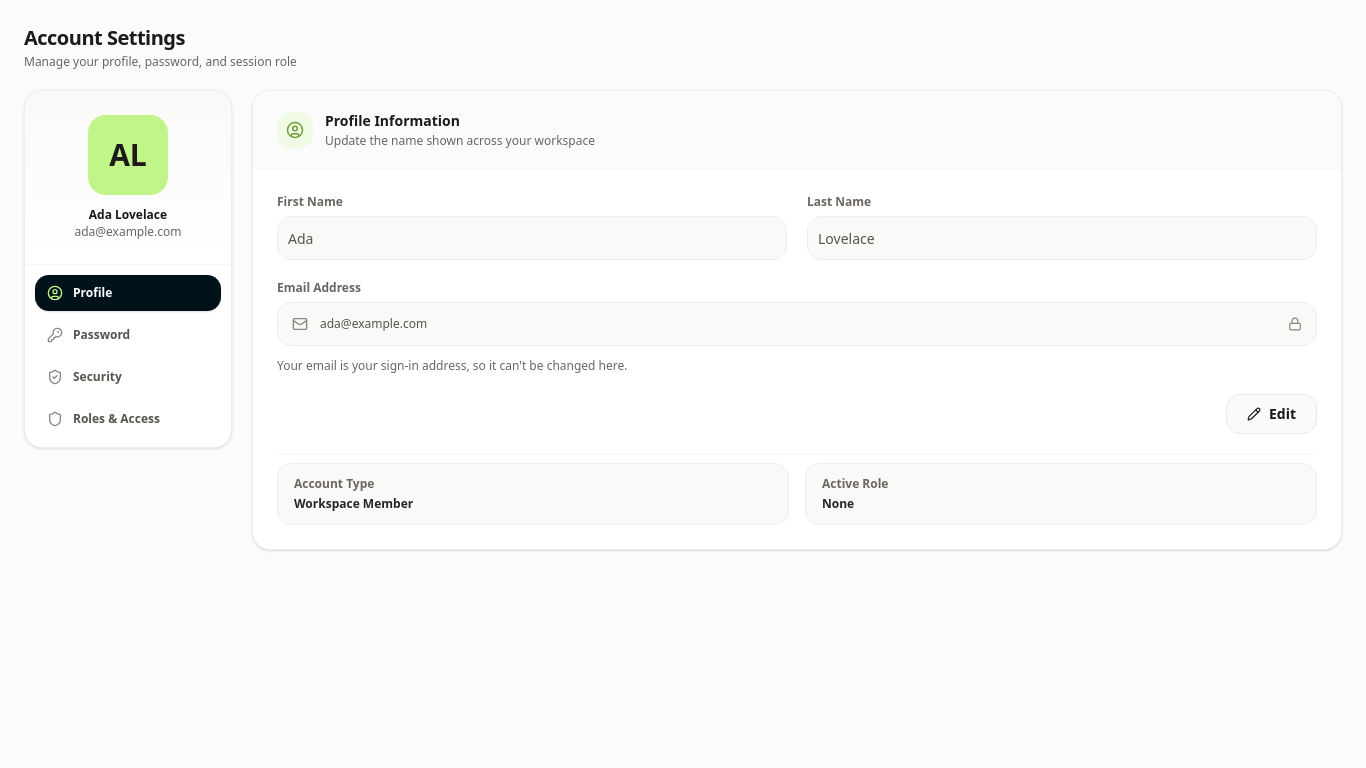
Test: AccountSettingsPage profile name › unlocks the names, swaps Edit for Cancel/Save, and focuses the first name on Edit
The width and height of the screenshot is (1366, 768).
Step 1. Click the button with aria-label "Edit name" → click(1271, 414), box [1226,394,1317,434]
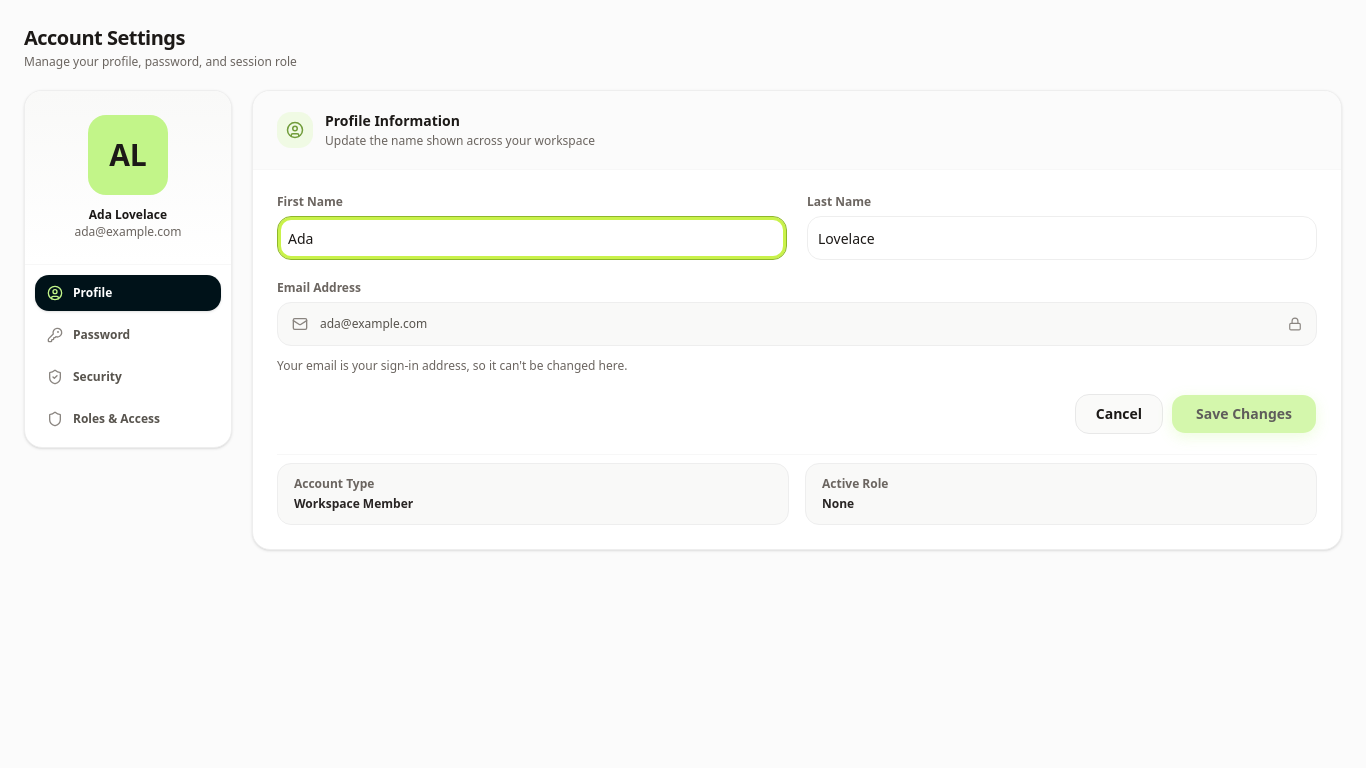
Now the button with aria-label "Cancel editing" is shown, box [1075,394,1163,434]
Now the button "Save Changes" is shown, box [1171,394,1317,434]
